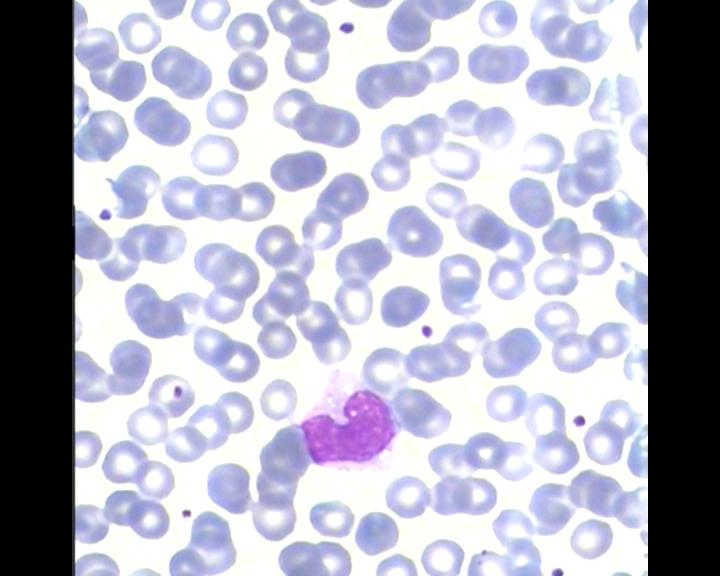mono: (298, 362, 400, 473)
